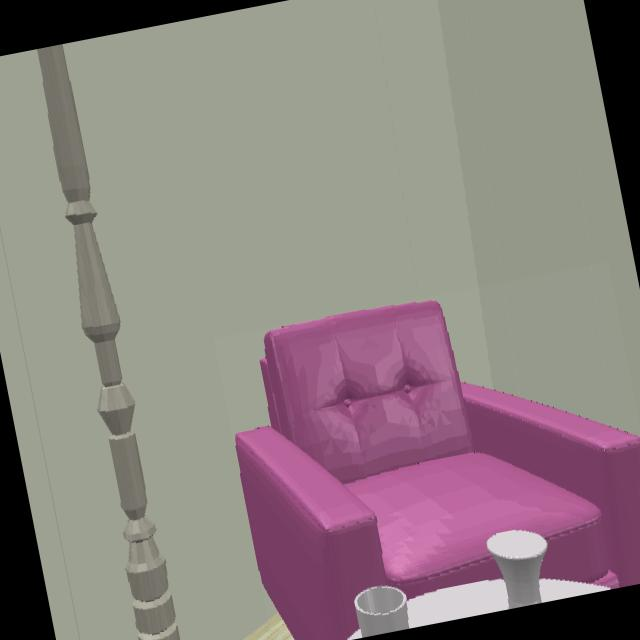sofa: (235, 301, 640, 640)
